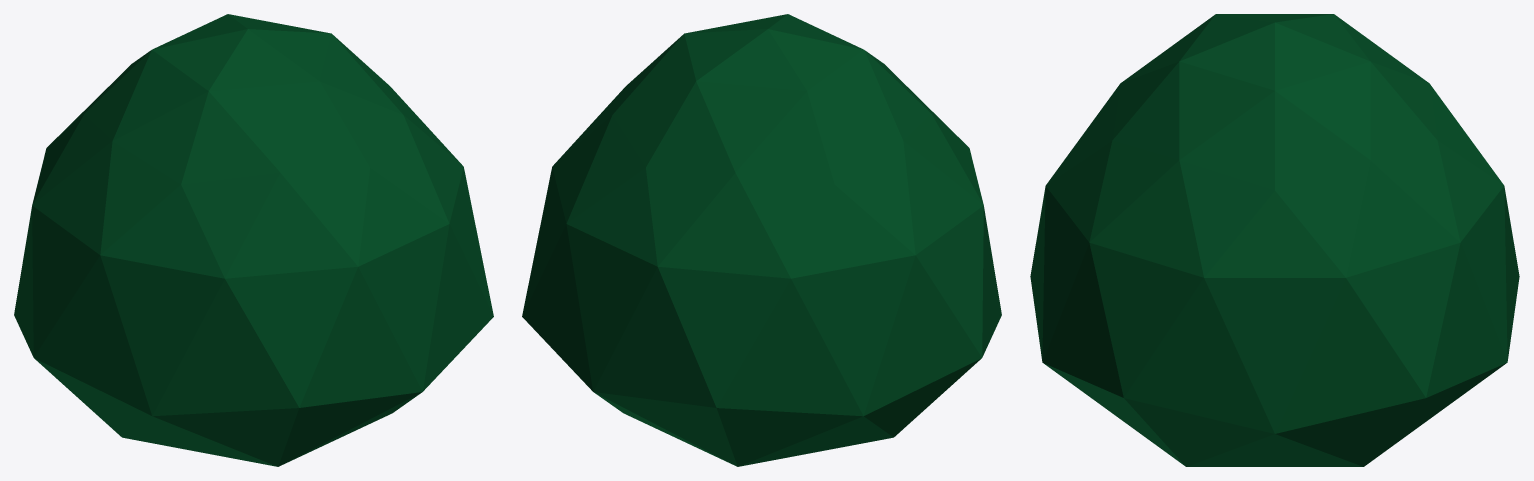
Rendered from Arbol Manzana fase 1.fbx.
3 renders of one model, left to right at view 1: azimuth 30°, elevation 25°; view 2: azimuth 150°, elevation 25°; view 3: azimuth 270°, elevation 25°, orthographic. The views are drawn at different scales.
Visible parts, largest first — view 1: Icosphere; view 2: Icosphere; view 3: Icosphere.
Boxes of the visible parts, x1=… form: Icosphere: x1=14, y1=14, x2=493, y2=466; Icosphere: x1=522, y1=14, x2=1001, y2=466; Icosphere: x1=1030, y1=14, x2=1519, y2=466.
Bounding box in the file's own units: 80.95 × 76.85 × 78.92.
